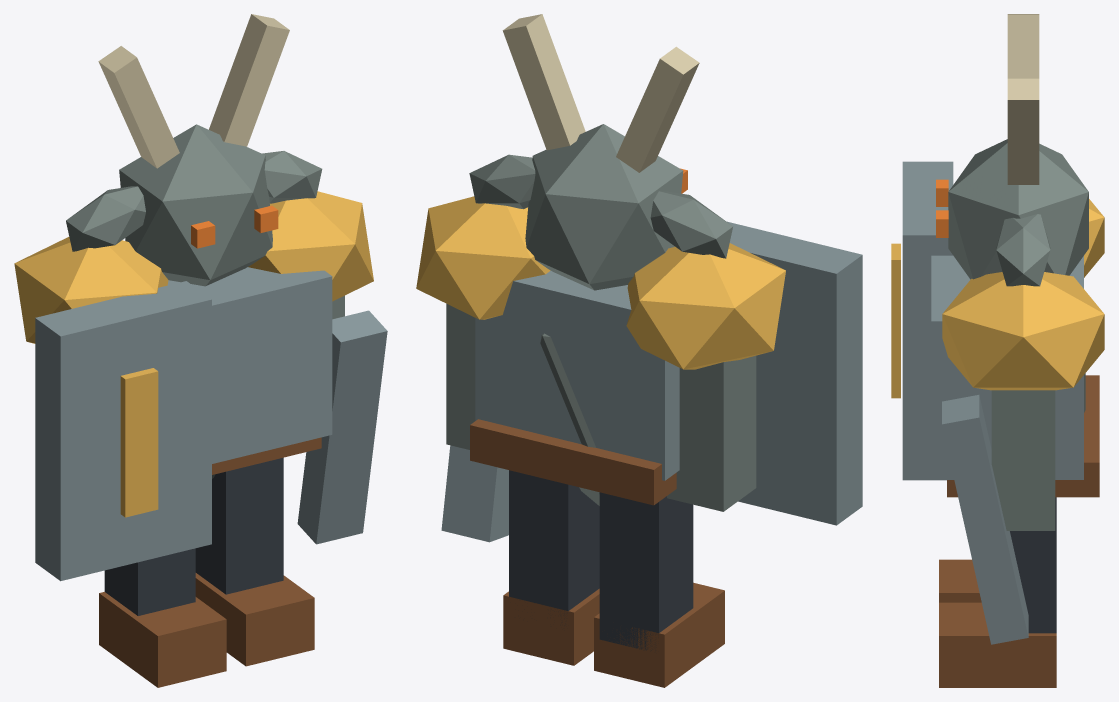
Rendered from elite_warden.fbx.
The picture shows the model from 3 angles, left to right: view 1: azimuth 30°, elevation 25°; view 2: azimuth 150°, elevation 25°; view 3: azimuth 270°, elevation 25°; orthographic projection. The views are drawn at different scales.
Visible parts, largest first — view 1: Shield.001, Breastplate.001, Head.005, Blade.002, LegRMesh.005, Boot.010, Shoulder, Shoulder.001, Boot.011, ShieldRune.001, Horn.001, Horn (+6 smaller); view 2: Shield.001, Breastplate.001, Head.005, Shoulder, LegLMesh.005, ArmLMesh.005, LegRMesh.005, Shoulder.001, Belt.005, Boot.010, Horn.001, Boot.011 (+6 smaller); view 3: Shoulder.001, Head.005, Shield.001, Blade.002, ArmRMesh.005, Breastplate.001, Boot.011, LegRMesh.005, Horn.001, Ear.011, Belt.005, Horn (+5 smaller).
Part boxes in pixels (left/top/right/bottom): Shield.001: left=35, top=281, right=211, bottom=581; Breastplate.001: left=167, top=267, right=332, bottom=463; Head.005: left=119, top=124, right=272, bottom=286; Blade.002: left=297, top=310, right=387, bottom=544; LegRMesh.005: left=195, top=457, right=283, bottom=594; Boot.010: left=99, top=592, right=226, bottom=687; Shoulder: left=14, top=237, right=168, bottom=343; Shoulder.001: left=248, top=191, right=373, bottom=301; Boot.011: left=195, top=573, right=314, bottom=666; ShieldRune.001: left=120, top=368, right=158, bottom=517; Horn.001: left=209, top=14, right=289, bottom=146; Horn: left=98, top=46, right=179, bottom=168; Shield.001: left=727, top=221, right=862, bottom=525; Breastplate.001: left=475, top=270, right=679, bottom=480; Head.005: left=525, top=124, right=683, bottom=290; Shoulder: left=626, top=243, right=785, bottom=369; LegLMesh.005: left=599, top=492, right=693, bottom=651; ArmLMesh.005: left=667, top=355, right=756, bottom=511; LegRMesh.005: left=509, top=470, right=599, bottom=625; Shoulder.001: left=416, top=196, right=550, bottom=319; Belt.005: left=470, top=419, right=676, bottom=505; Boot.010: left=594, top=582, right=724, bottom=687; Horn.001: left=502, top=14, right=585, bottom=150; Boot.011: left=503, top=588, right=599, bottom=665; Shoulder.001: left=942, top=272, right=1104, bottom=390; Head.005: left=948, top=139, right=1088, bottom=279; Shield.001: left=902, top=161, right=953, bottom=480; Blade.002: left=942, top=395, right=1028, bottom=644; ArmRMesh.005: left=991, top=390, right=1055, bottom=530; Breastplate.001: left=931, top=255, right=1083, bottom=479; Boot.011: left=939, top=602, right=1056, bottom=687; LegRMesh.005: left=1010, top=497, right=1056, bottom=633; Horn.001: left=1007, top=78, right=1039, bottom=184; Ear.011: left=996, top=214, right=1050, bottom=286; Belt.005: left=947, top=375, right=1099, bottom=497; Horn: left=1007, top=14, right=1039, bottom=78.
Bounding box in the file's own units: 132 × 209 × 67.02.
